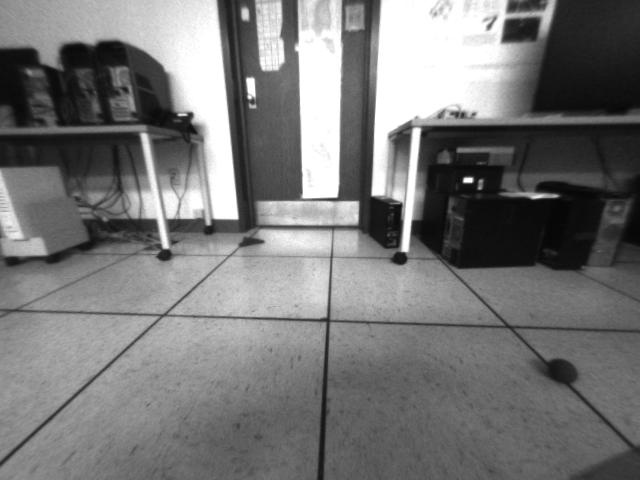dogtoy: (538, 348, 585, 389)
